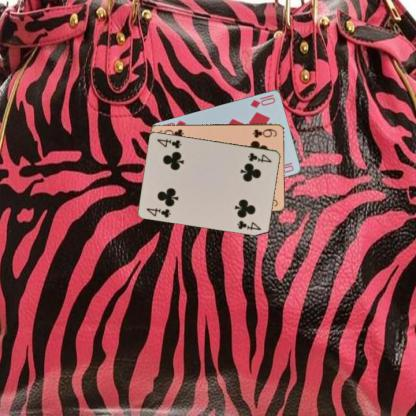10d: (248, 92, 276, 109)
4c: (144, 205, 172, 219), (246, 150, 273, 164)
6c: (250, 126, 278, 139)
